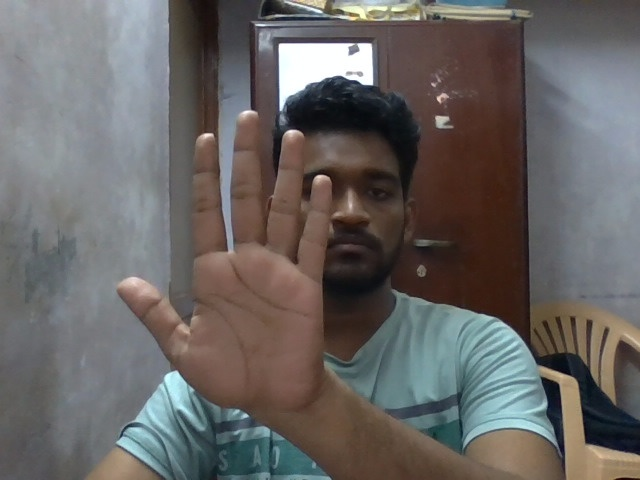Hello: (117, 108, 333, 424)
